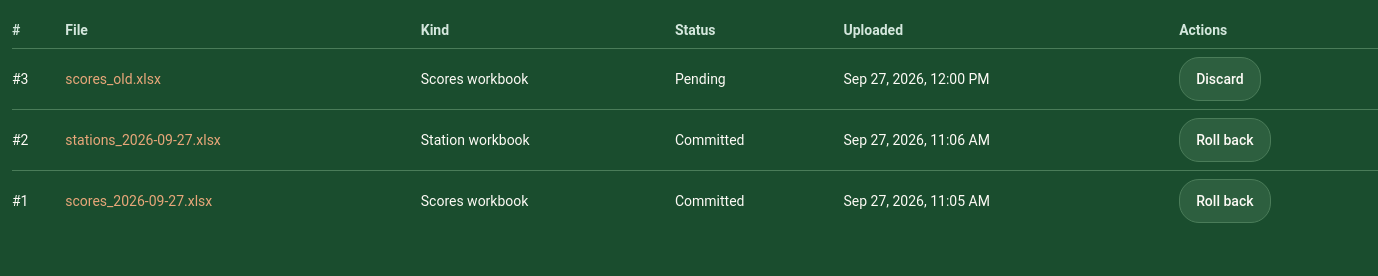
it: ImportHistory › shows a rejected roll back next to the table
The width and height of the screenshot is (1378, 276).
Click the button "Roll back" in the row of "#2": (1225,140) [1179,118,1271,162]
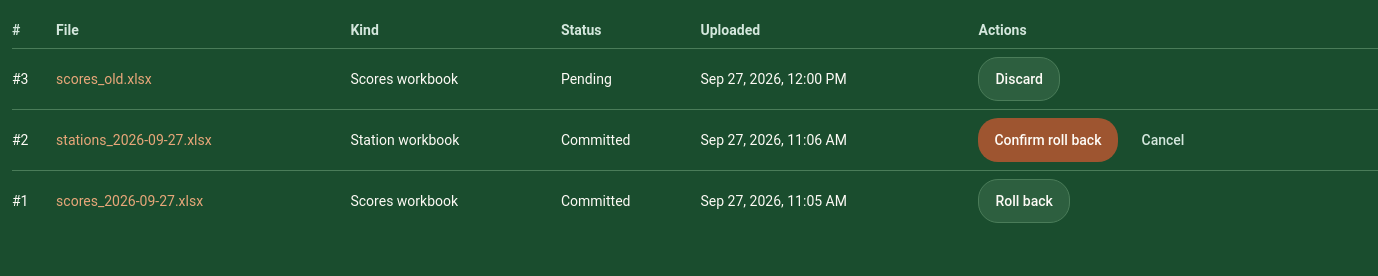
Click the button "Confirm roll back": (1048,140) [978,118,1118,162]
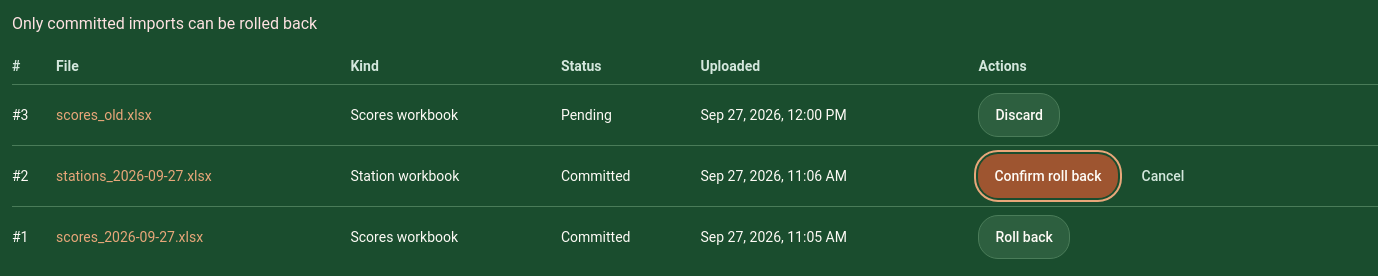
Check: the message reads "Only committed imports can be rolled back", box [12,14,317,33]
